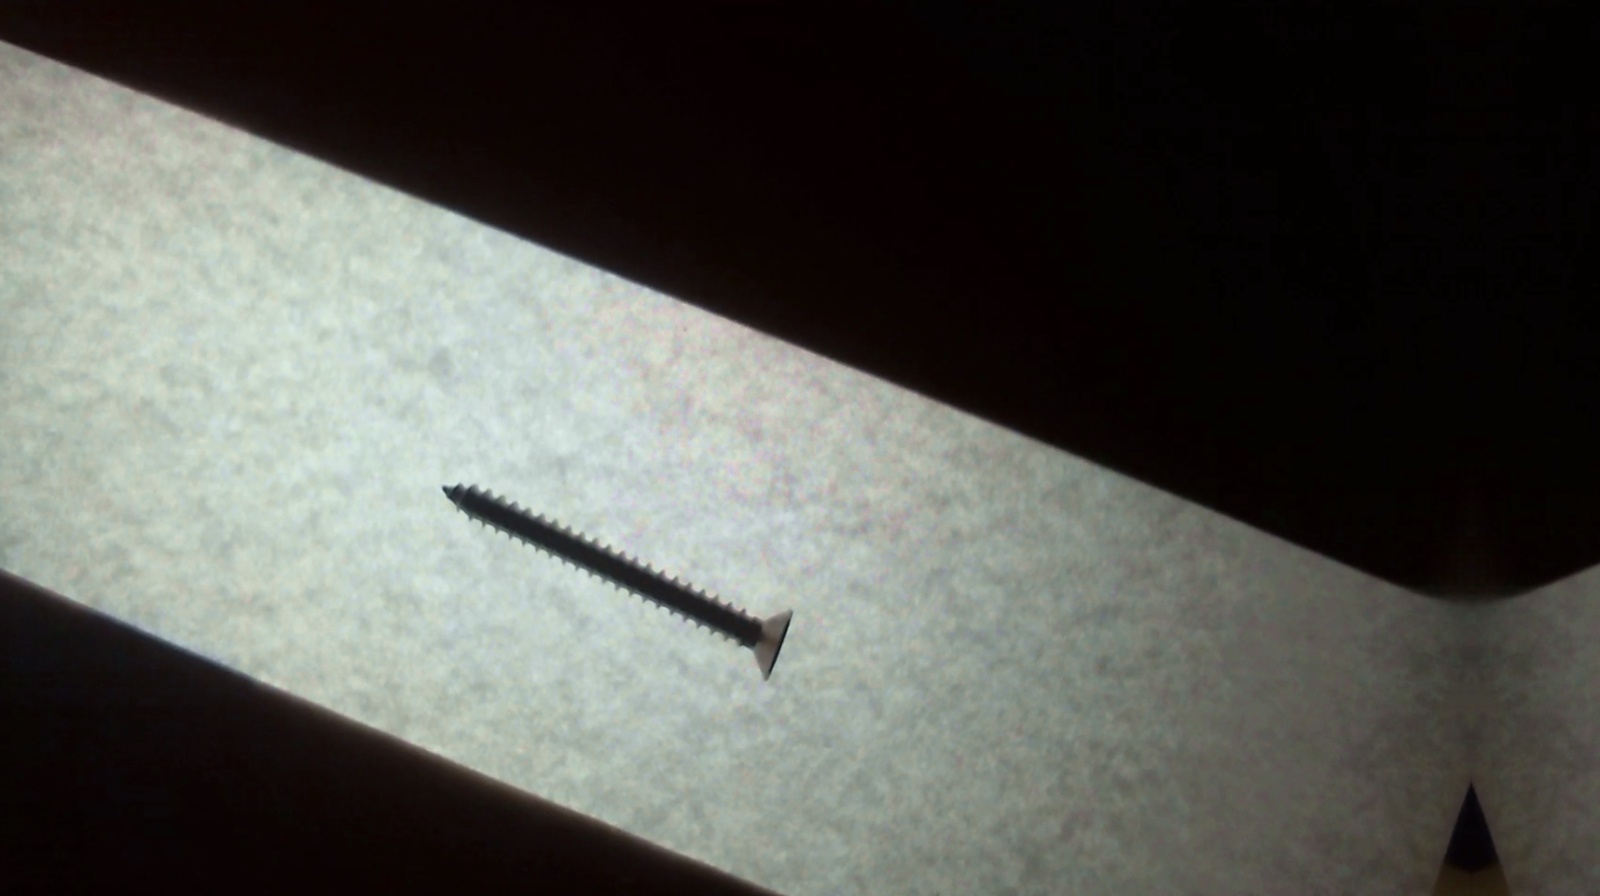S002: (415, 465, 814, 690)
